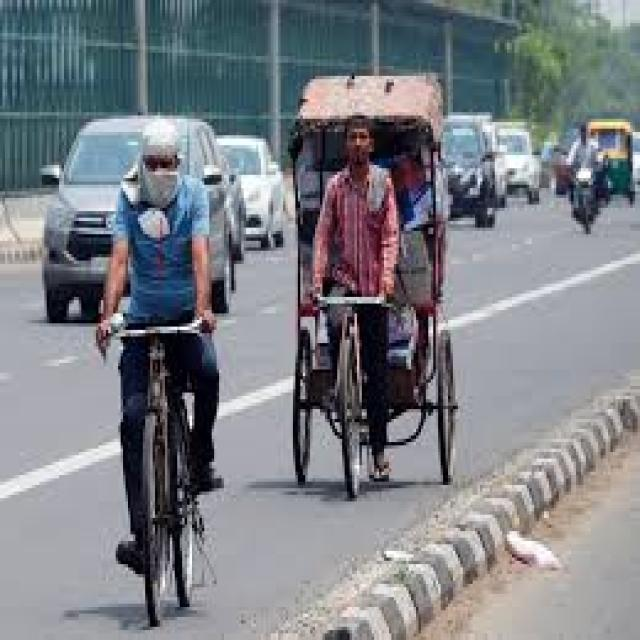bicycle: (295, 75, 458, 497), (96, 119, 222, 624)
